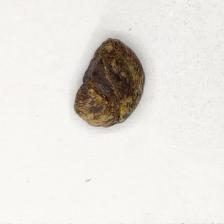NG: (74, 38, 144, 127)
